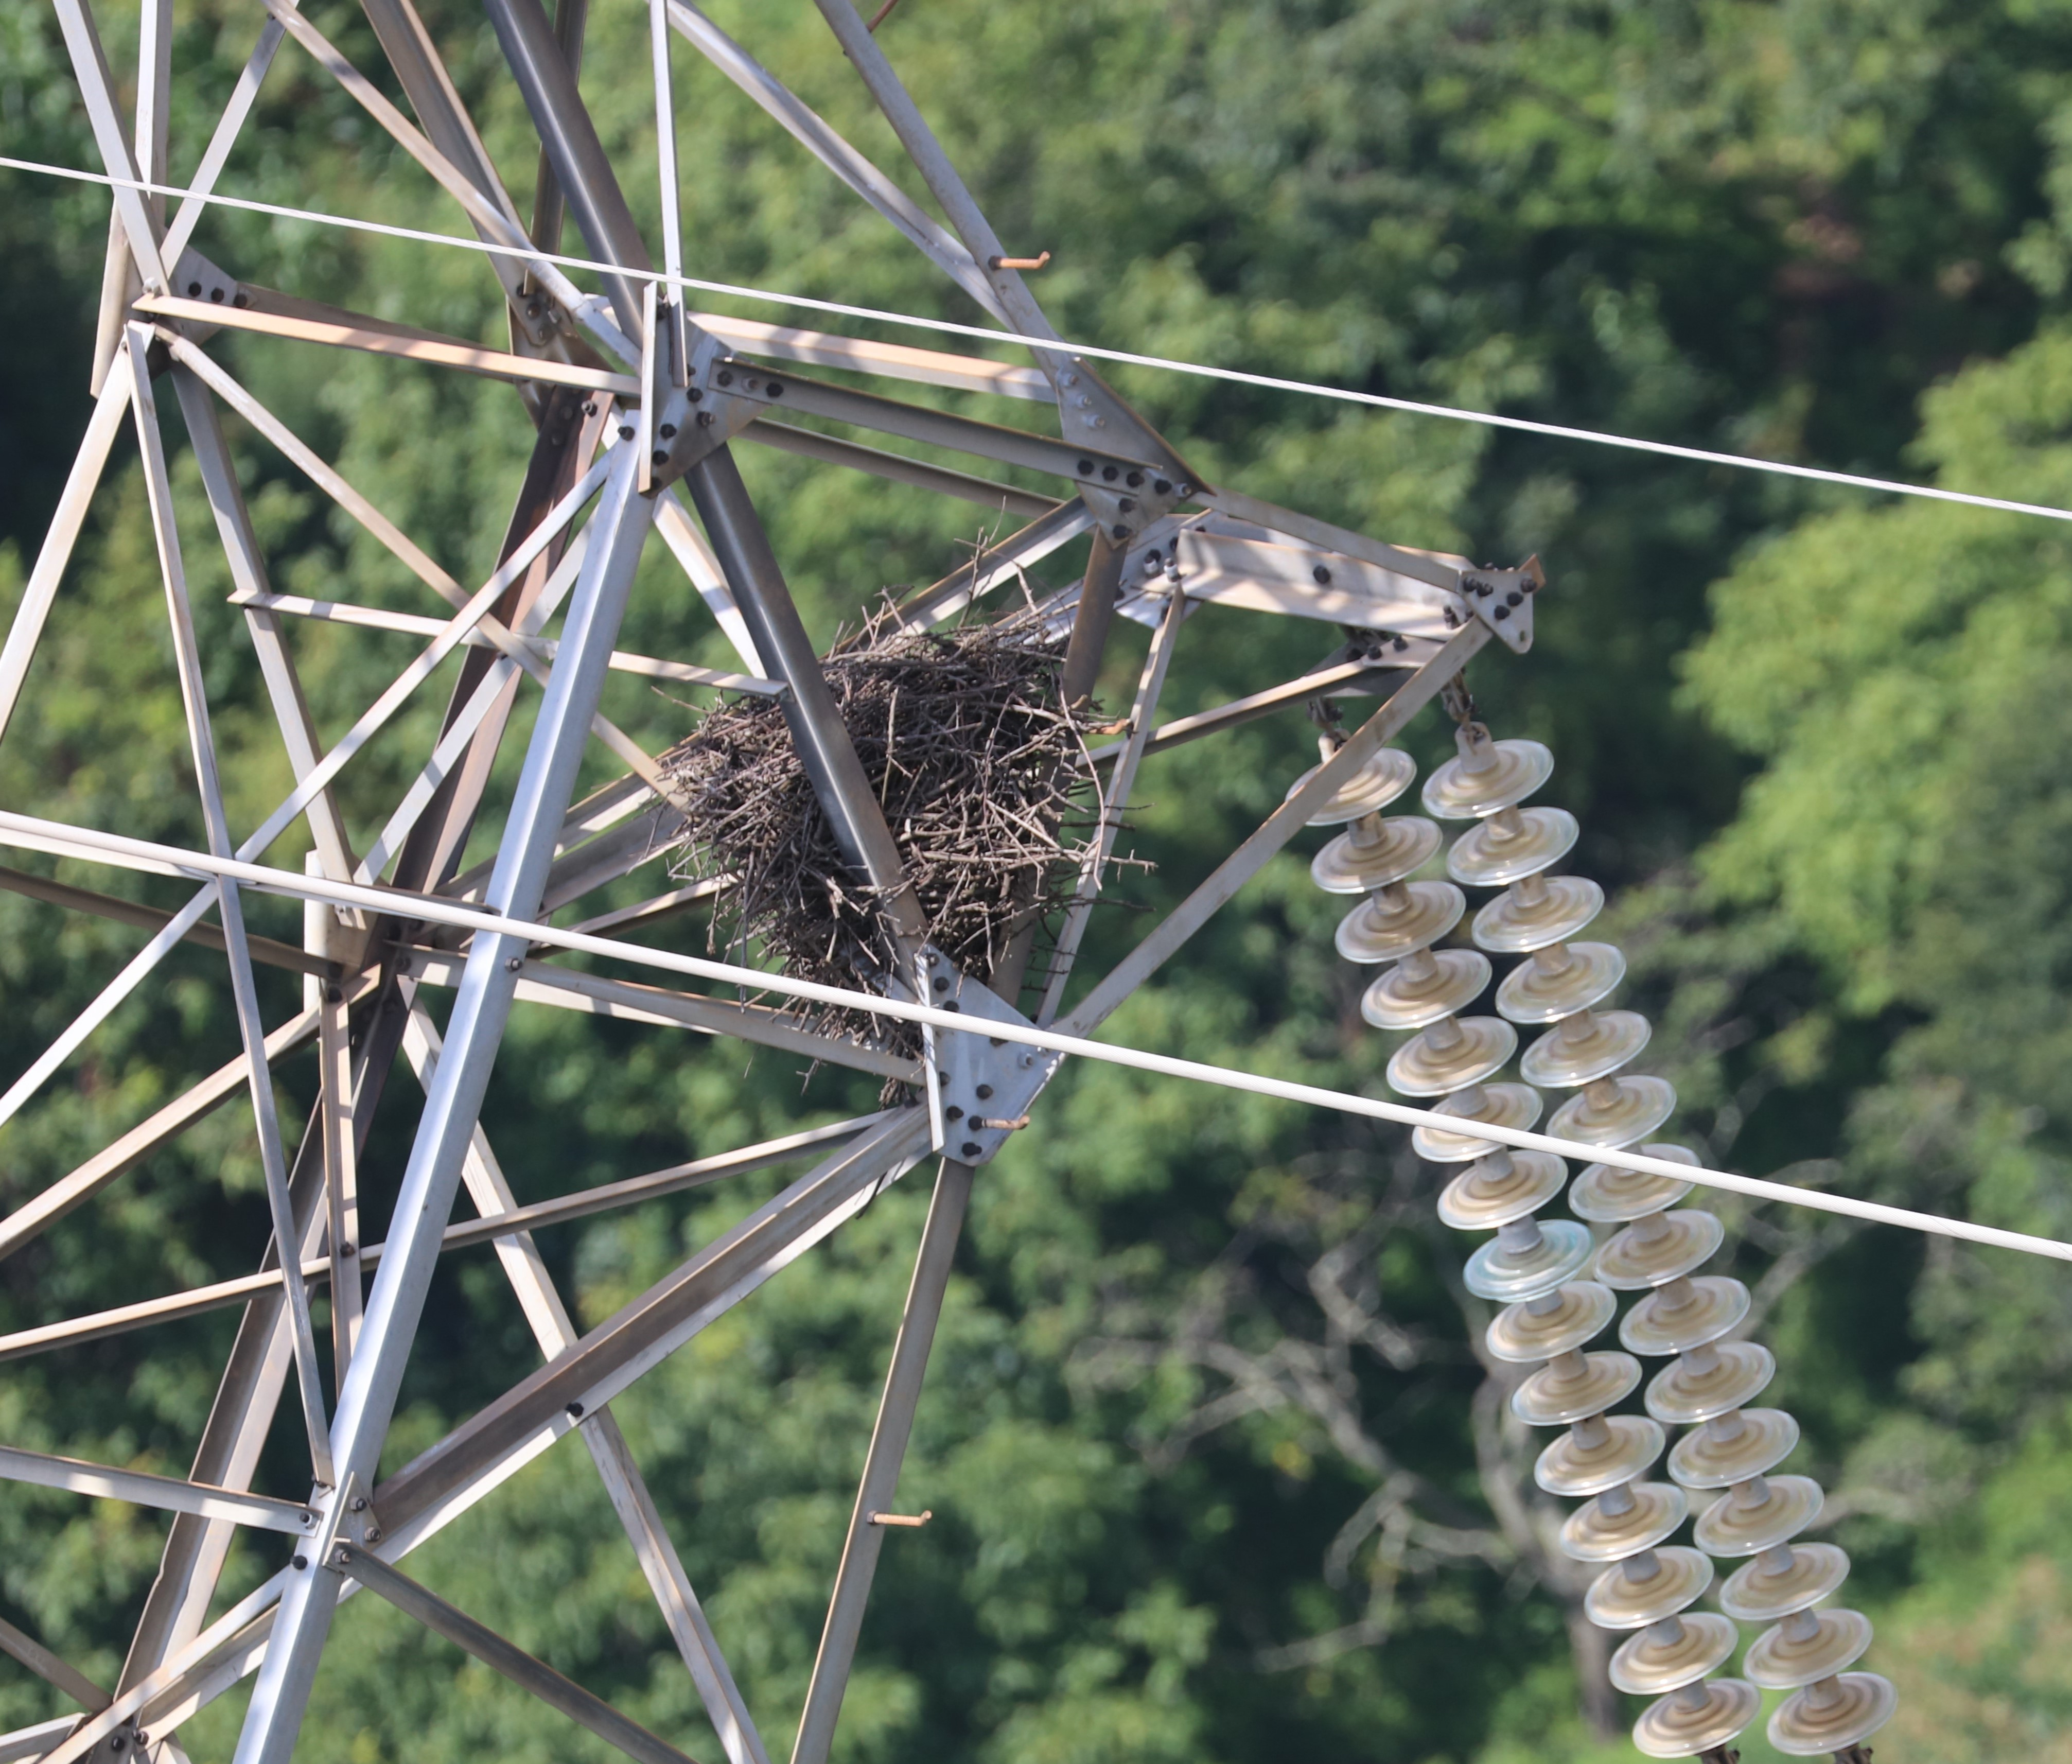niaowo: (644, 574, 1108, 1032)
